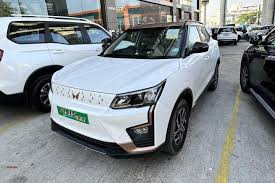XUV 400: (47, 20, 222, 164)
